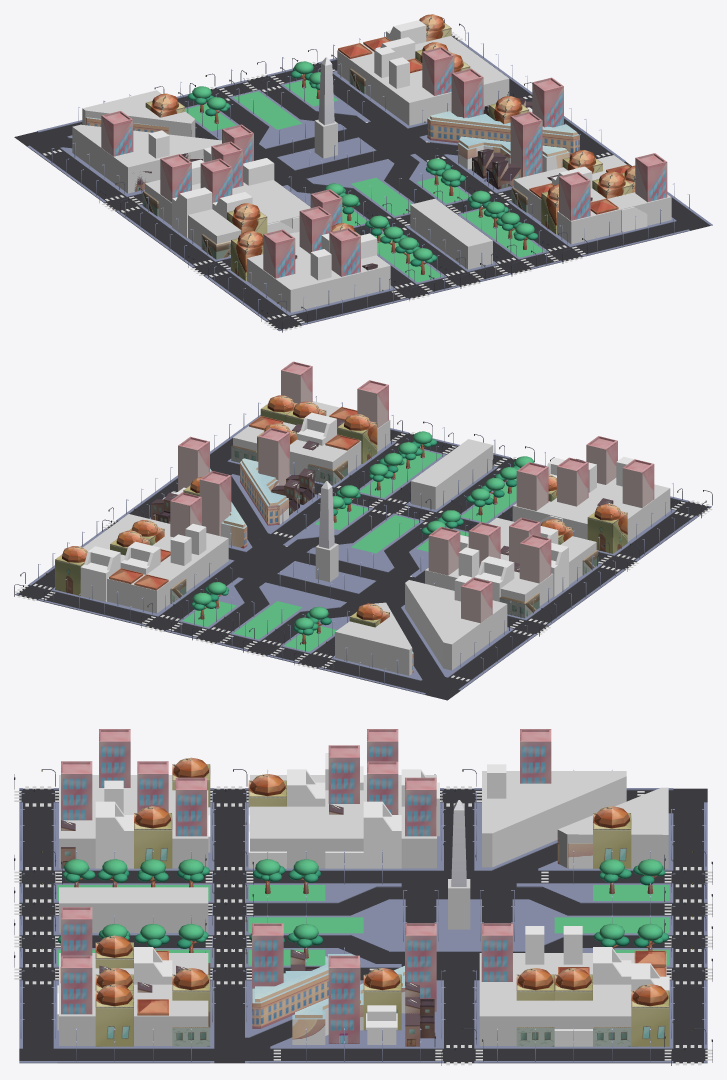
File: BA_map_V006 1.glb
3 views of the same model, one above another, from view 1: azimuth 30°, elevation 25°; view 2: azimuth 150°, elevation 25°; view 3: azimuth 270°, elevation 25° (orthographic). The views are drawn at different scales.
Parts seen in each view (by area): view 1: coll.118, coll.033, coll.001, coll.181, coll.021, coll.189, building.052, coll.204, building.2162, building.050, building.2129, building.3130 (+34 smaller); view 2: coll.001, coll.118, coll.033, coll.204, coll.189, coll.021, coll.181, building.050, building.2129, building.3122, building.1991, building.2162 (+30 smaller); view 3: coll.001, coll.021, coll.118, coll.189, coll.181, coll.204, coll.033, building.050, building.2181, building.077, building.1992, building.2174 (+165 smaller).
Part boxes in pixels (box(x1,y1,x2,y2)): coll.118: box(337, 36, 509, 125); coll.033: box(247, 231, 390, 312); coll.001: box(72, 124, 221, 193); coll.181: box(513, 155, 671, 244); coll.021: box(145, 180, 310, 247); coll.189: box(410, 198, 492, 269); building.052: box(427, 111, 579, 155); coll.204: box(82, 90, 195, 137); building.2162: box(510, 111, 542, 177); building.050: box(458, 136, 569, 172); building.2129: box(451, 68, 483, 117); building.3130: box(263, 229, 295, 278); coll.001: box(405, 580, 507, 670); coll.118: box(82, 514, 228, 613); coll.033: box(512, 478, 670, 541); coll.204: box(335, 602, 412, 675); coll.189: box(411, 439, 493, 509); coll.021: box(425, 517, 596, 606); coll.181: box(233, 401, 390, 474); building.050: box(240, 458, 288, 525); building.2129: box(199, 471, 231, 536); building.3122: box(587, 503, 627, 553); building.1991: box(80, 546, 120, 602); building.2162: box(258, 427, 289, 485); coll.001: box(482, 771, 626, 867); coll.021: box(250, 775, 436, 868); coll.118: box(479, 953, 666, 1045); coll.189: box(59, 887, 208, 932); coll.181: box(59, 953, 208, 1045); coll.204: box(557, 787, 668, 868); coll.033: box(59, 775, 208, 868); building.050: box(252, 954, 360, 1028); building.2181: box(328, 955, 359, 1043); building.077: box(363, 801, 401, 868); building.1992: box(631, 984, 669, 1046); building.2174: box(95, 984, 133, 1046).
Bounding box in the file's own units: 17.27 × 3.64 × 18.27.
Materials: 12 (11 with a texture image).
